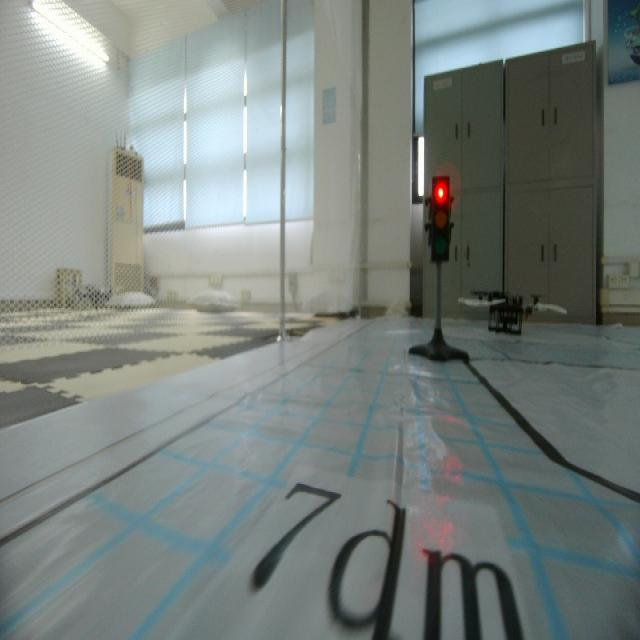red: (424, 172, 454, 268)
